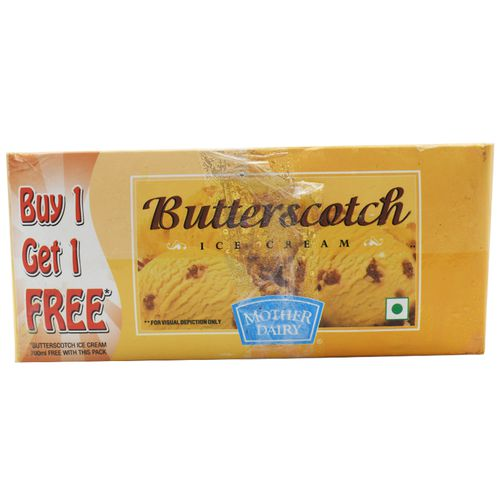Mother_Dairy: (221, 286, 329, 348)
